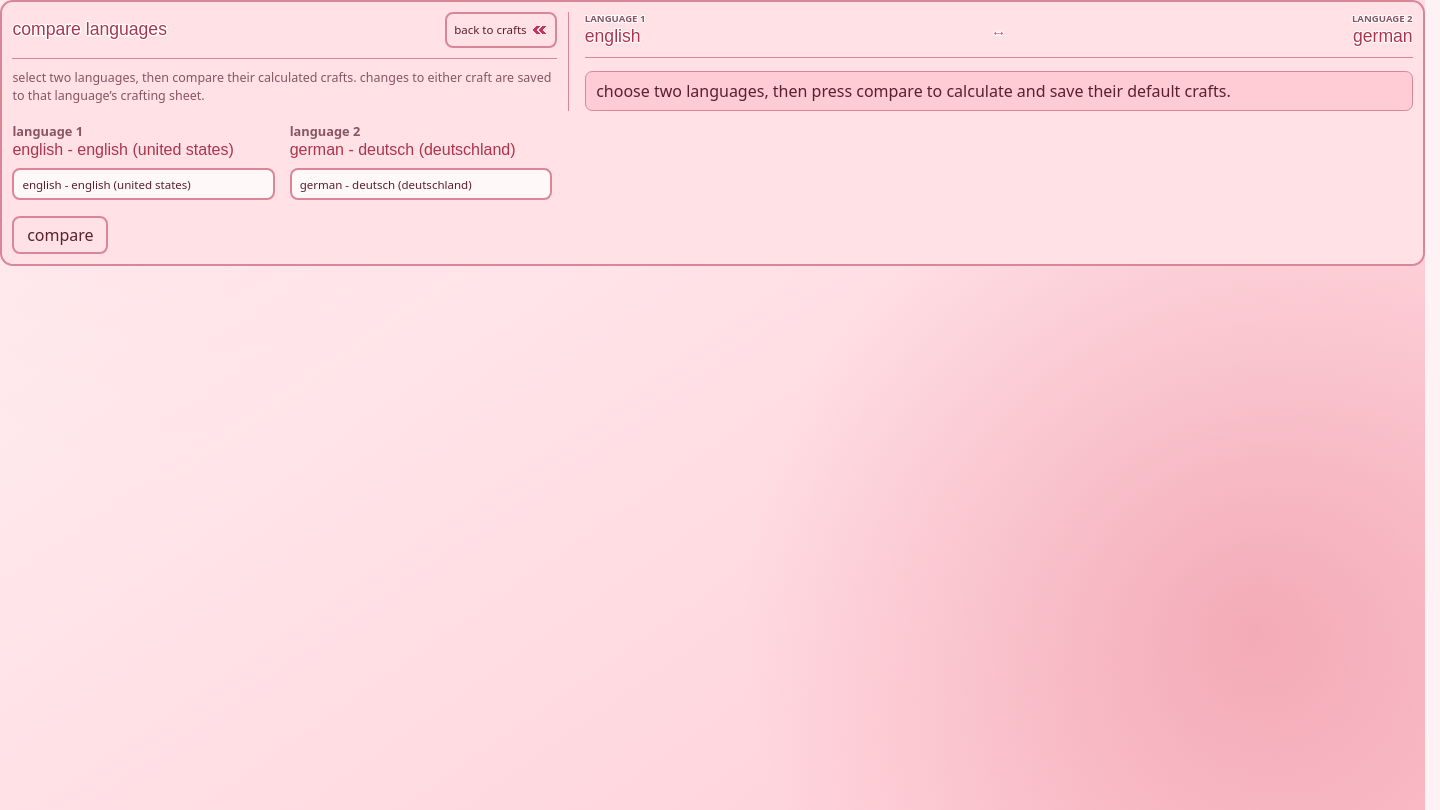
Scenario: LanguageComparison › shows shared item-set names in comparison rows and compact navigation without a name editor
Click the button "compare": (60,235) 12,216 -> 108,254
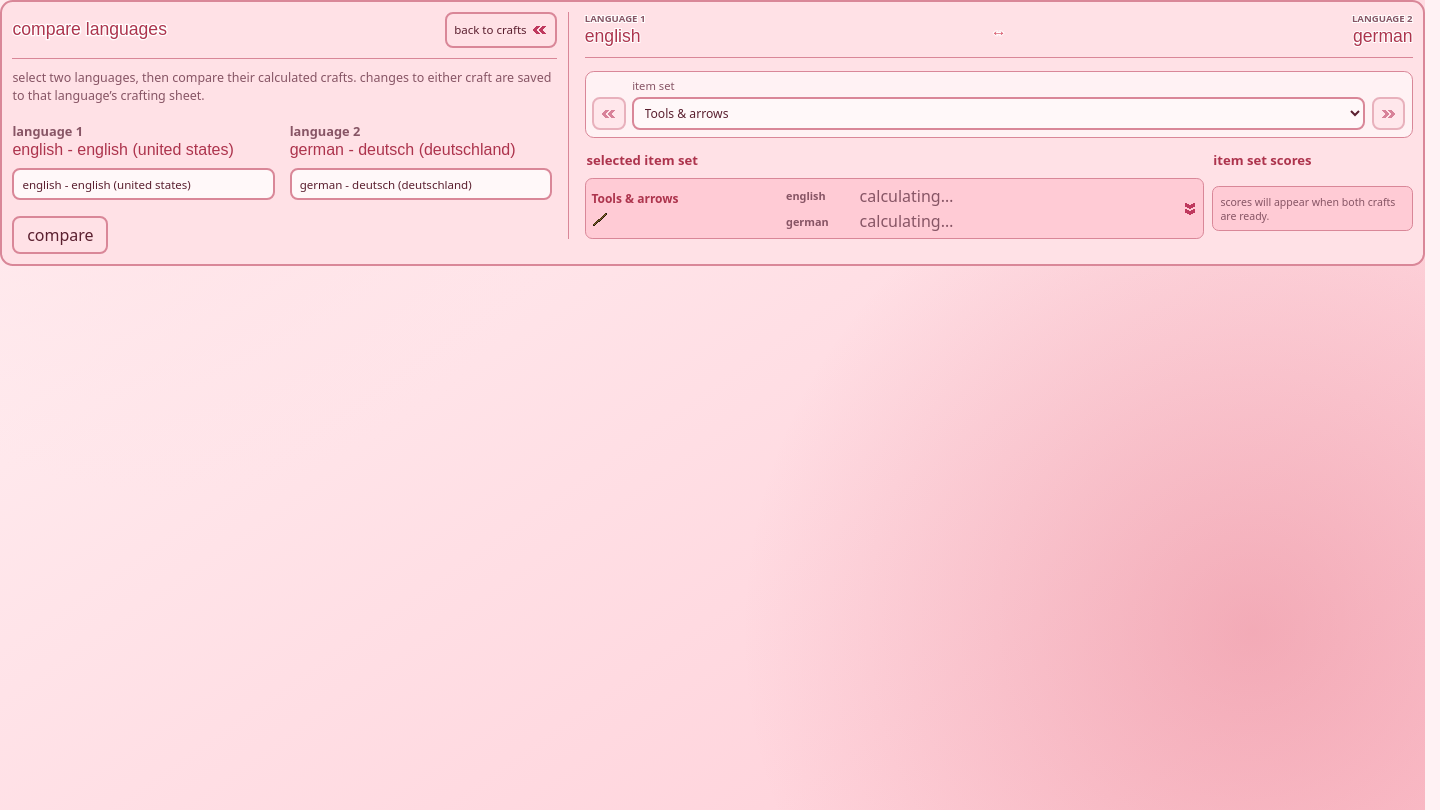
Expected: the text "Tools & arrows" is shown, 591,190 -> 679,207
